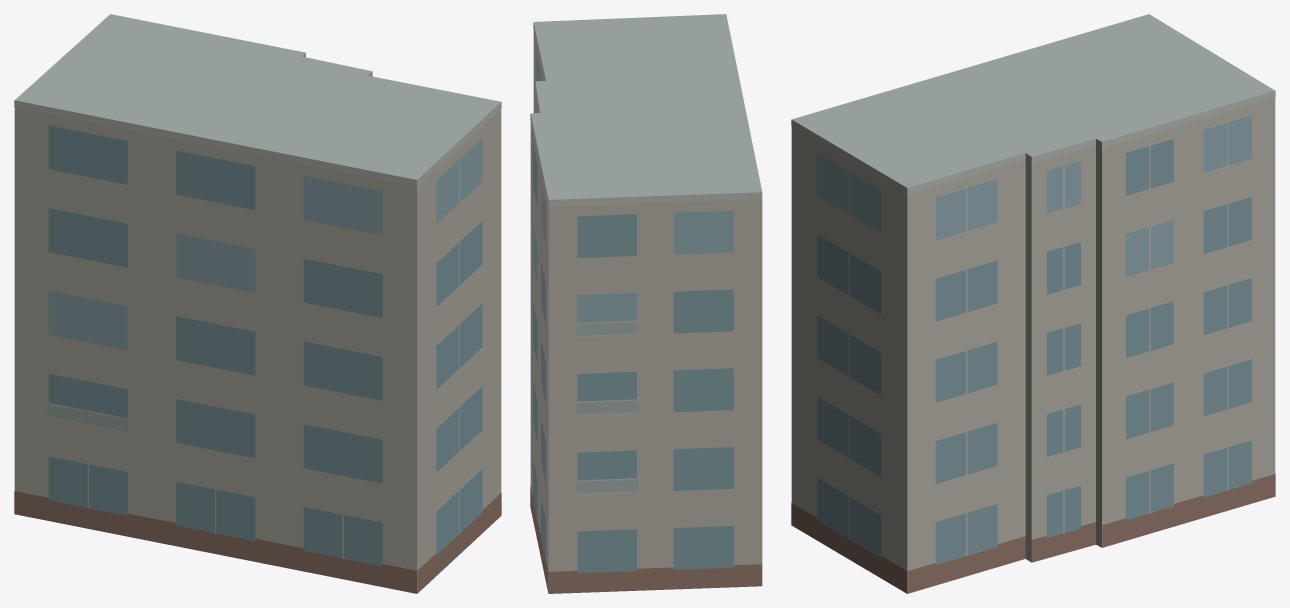
File: survey-upis-32868689.glb
3 views of the same model, side by side, from view 1: azimuth 30°, elevation 25°; view 2: azimuth 150°, elevation 25°; view 3: azimuth 270°, elevation 25° (orthographic). The views are drawn at different scales.
Visible parts, largest first — view 1: survey-upis-32868689.tmp; view 2: survey-upis-32868689.tmp; view 3: survey-upis-32868689.tmp.
Boxes of the visible parts, <box> form: survey-upis-32868689.tmp: <box>14,14,501,593</box>; survey-upis-32868689.tmp: <box>530,14,762,593</box>; survey-upis-32868689.tmp: <box>791,14,1275,593</box>.
Bounding box in the file's own units: 13.25 × 14.4 × 15.57.
